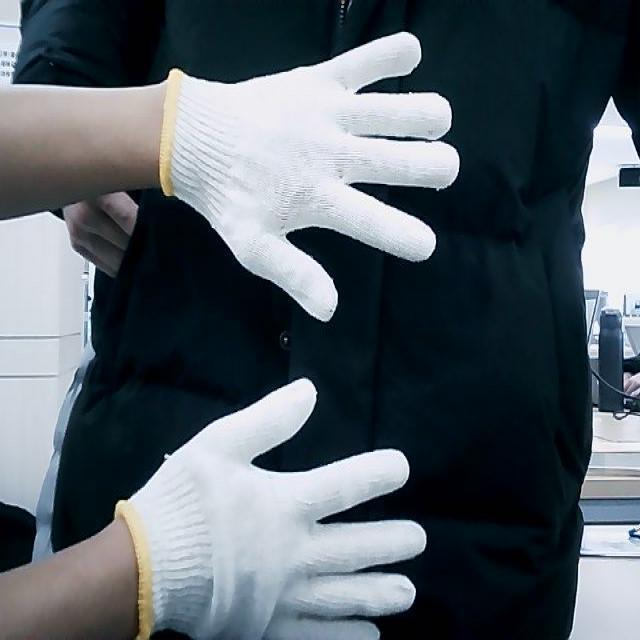gloves: (160, 31, 460, 324), (114, 378, 427, 640)
